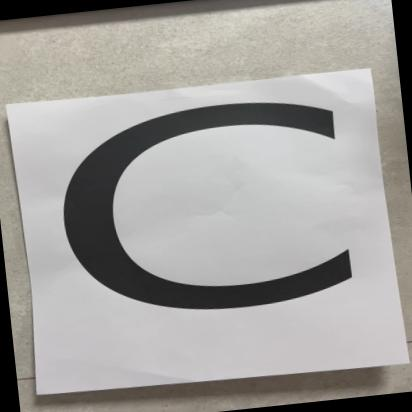seat: (0, 50, 412, 412)
